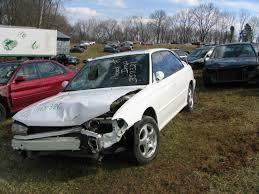Bonnet: (31, 92, 102, 123)
Bumper: (16, 131, 113, 163)
Light: (88, 119, 124, 133)
